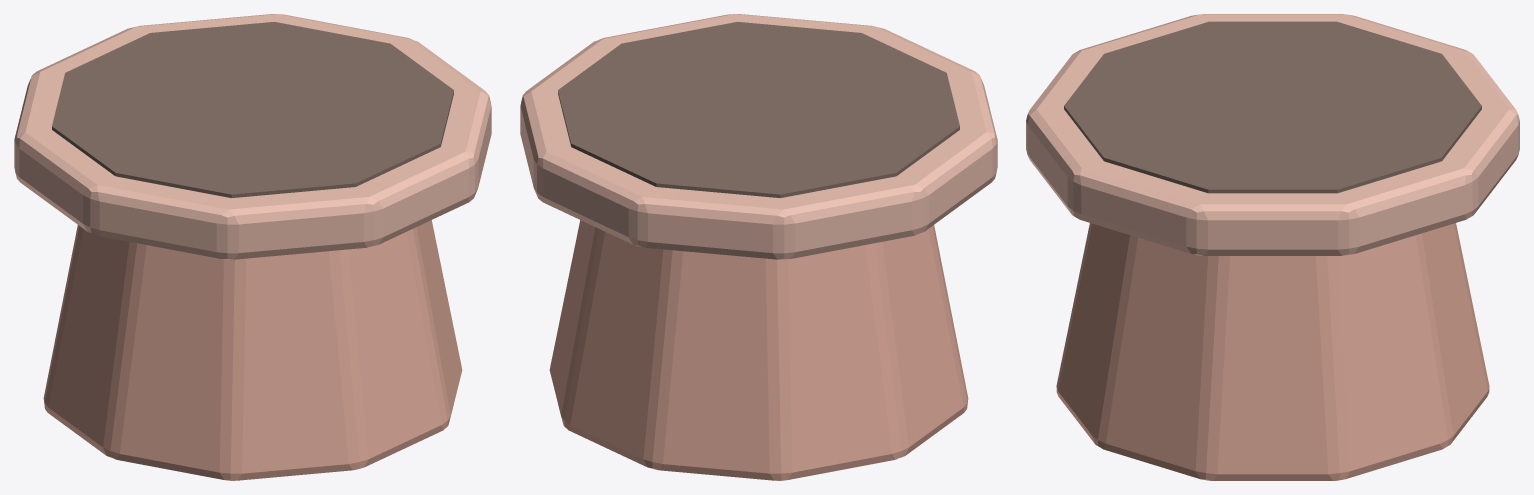
Rendered from pot.glb.
3 views of the same model, side by side, from view 1: azimuth 30°, elevation 25°; view 2: azimuth 150°, elevation 25°; view 3: azimuth 270°, elevation 25° (orthographic).
Visible parts, largest first — view 1: Pot, Soil, Rim; view 2: Pot, Soil, Rim; view 3: Pot, Soil, Rim.
Part boxes in pixels (x1,y1,x2,y2): Pot: (43,220,462,480); Soil: (52,21,453,197); Rim: (14,14,491,259); Pot: (549,220,968,480); Soil: (558,21,959,197); Rim: (520,14,997,259); Pot: (1056,223,1489,480); Soil: (1064,21,1481,193); Rim: (1026,14,1519,255).
Size of the model in its own units: 1.18 by 0.8 by 1.23.
